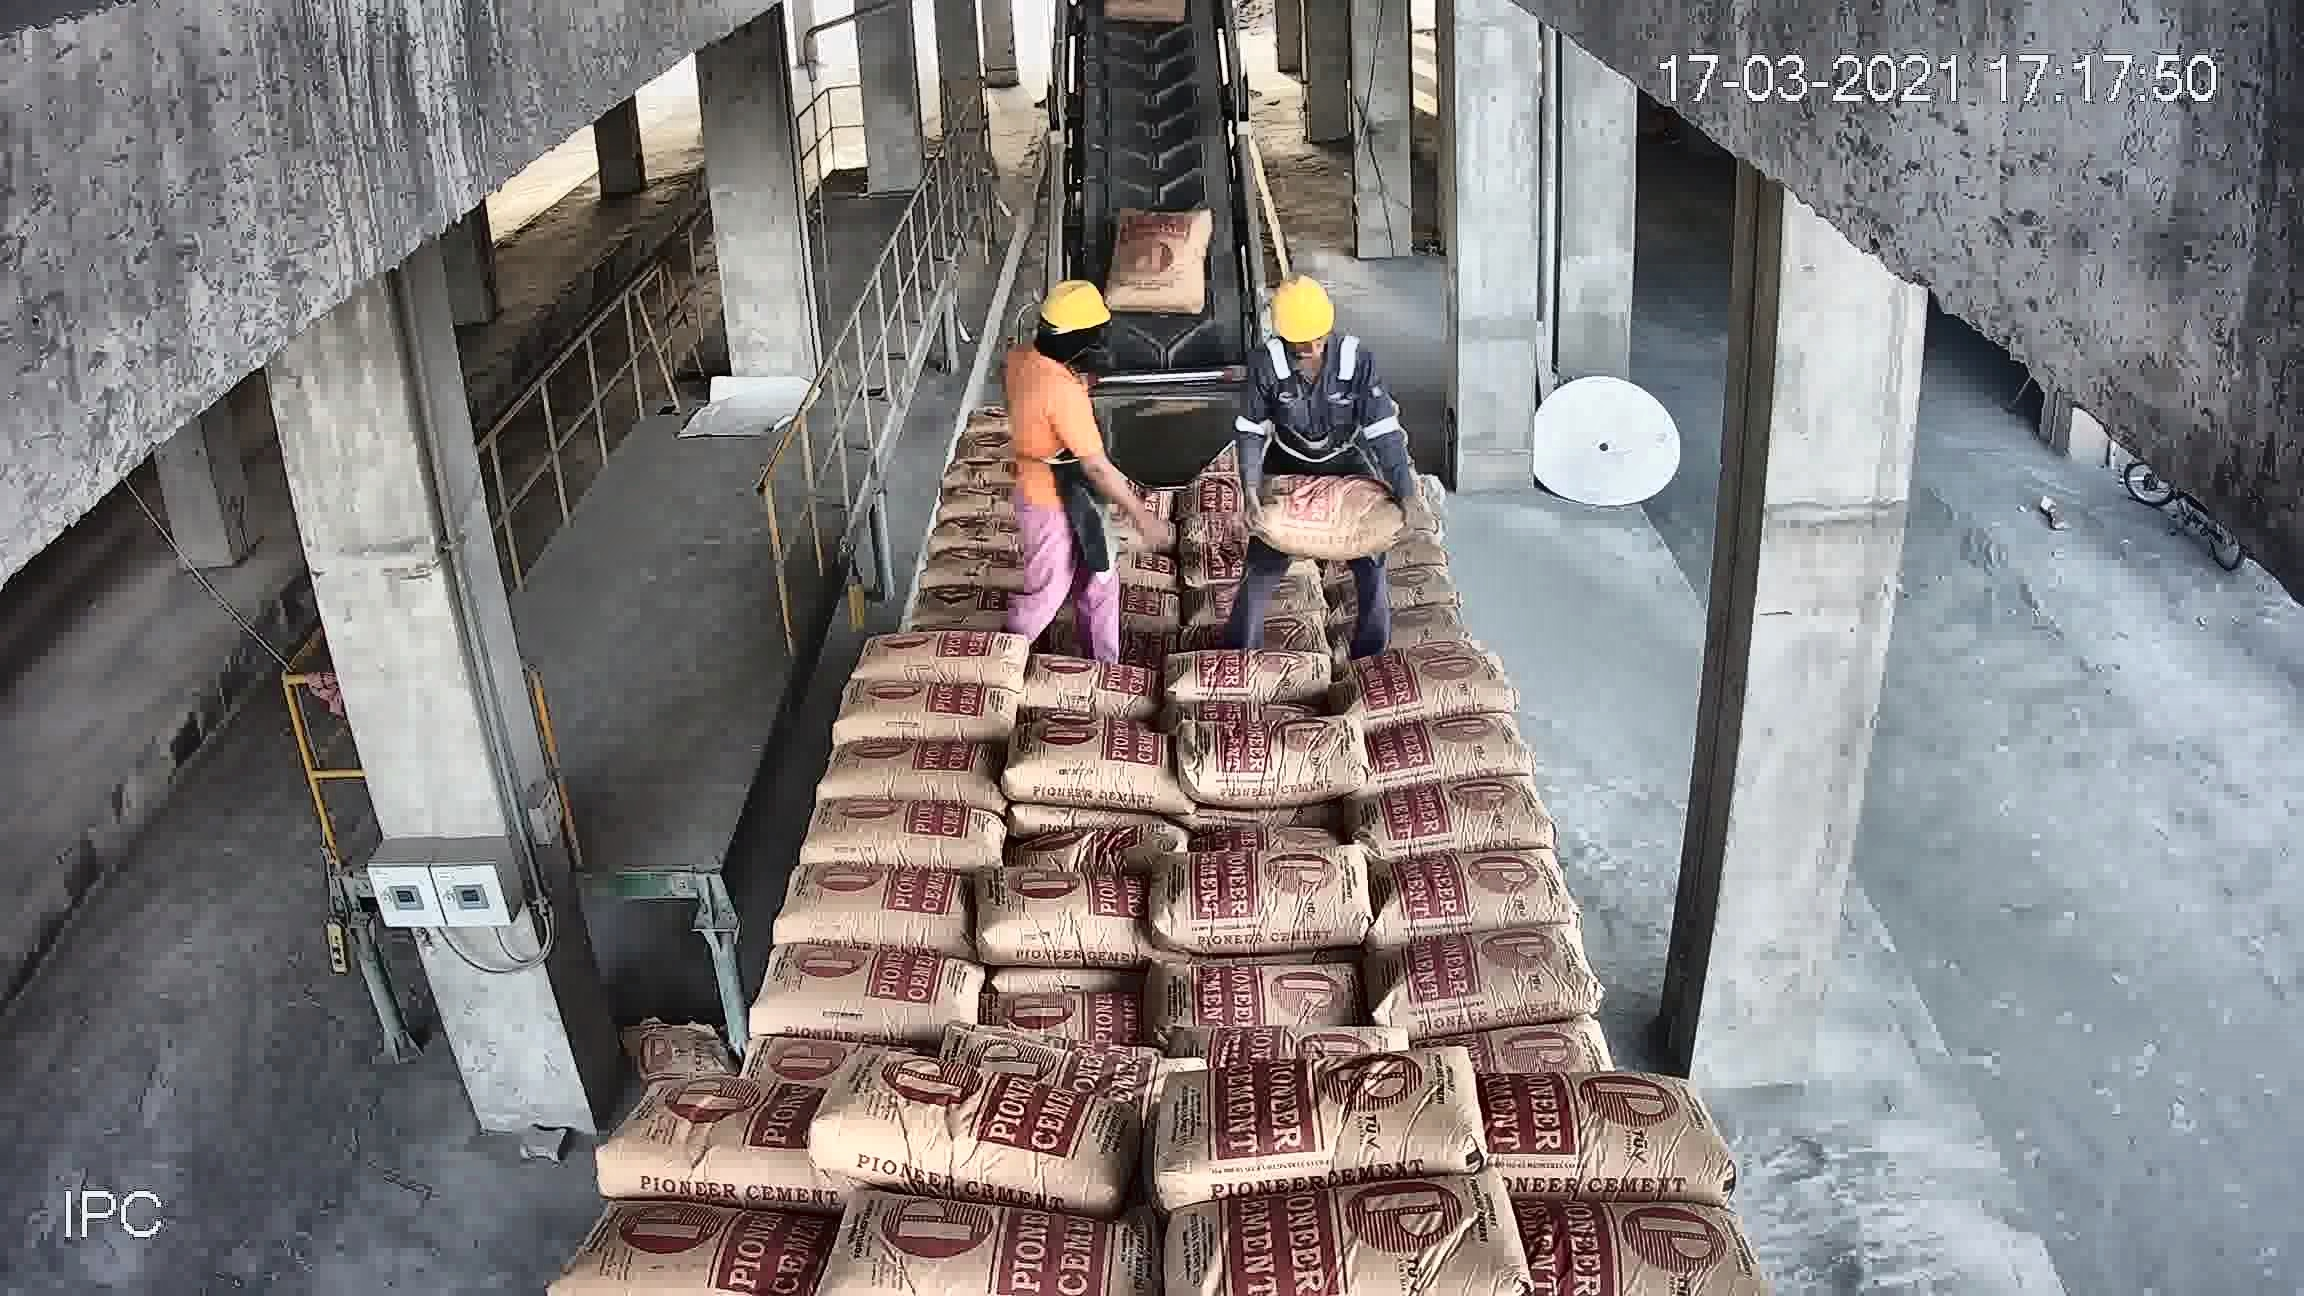bag: (1108, 206, 1206, 321)
bag_h: (821, 1048, 1131, 1226), (1149, 1052, 1489, 1199), (1161, 1177, 1524, 1294), (815, 1188, 1177, 1296), (593, 1084, 832, 1222), (1486, 1079, 1731, 1201), (1491, 1176, 1749, 1290), (555, 1198, 851, 1291), (1362, 919, 1593, 1032), (752, 946, 989, 1044), (775, 851, 980, 956), (1160, 862, 1378, 954), (1367, 850, 1575, 945), (965, 872, 1158, 967), (1350, 771, 1551, 861), (794, 794, 1021, 870), (964, 1029, 1180, 1108), (1154, 961, 1361, 1041), (1002, 723, 1184, 809), (1180, 726, 1367, 809), (813, 733, 1013, 809), (1350, 707, 1532, 790), (1244, 473, 1405, 563), (1005, 815, 1190, 889), (1329, 649, 1514, 718), (856, 620, 1036, 690), (832, 680, 1014, 748), (1158, 646, 1340, 711), (989, 975, 1150, 1048), (1437, 1022, 1608, 1079), (997, 655, 1158, 715), (1324, 600, 1461, 655), (1059, 571, 1180, 633), (896, 571, 1022, 622), (907, 554, 1029, 593), (926, 516, 1022, 560), (926, 479, 1014, 522)
belt: (1036, 33, 1266, 418)
